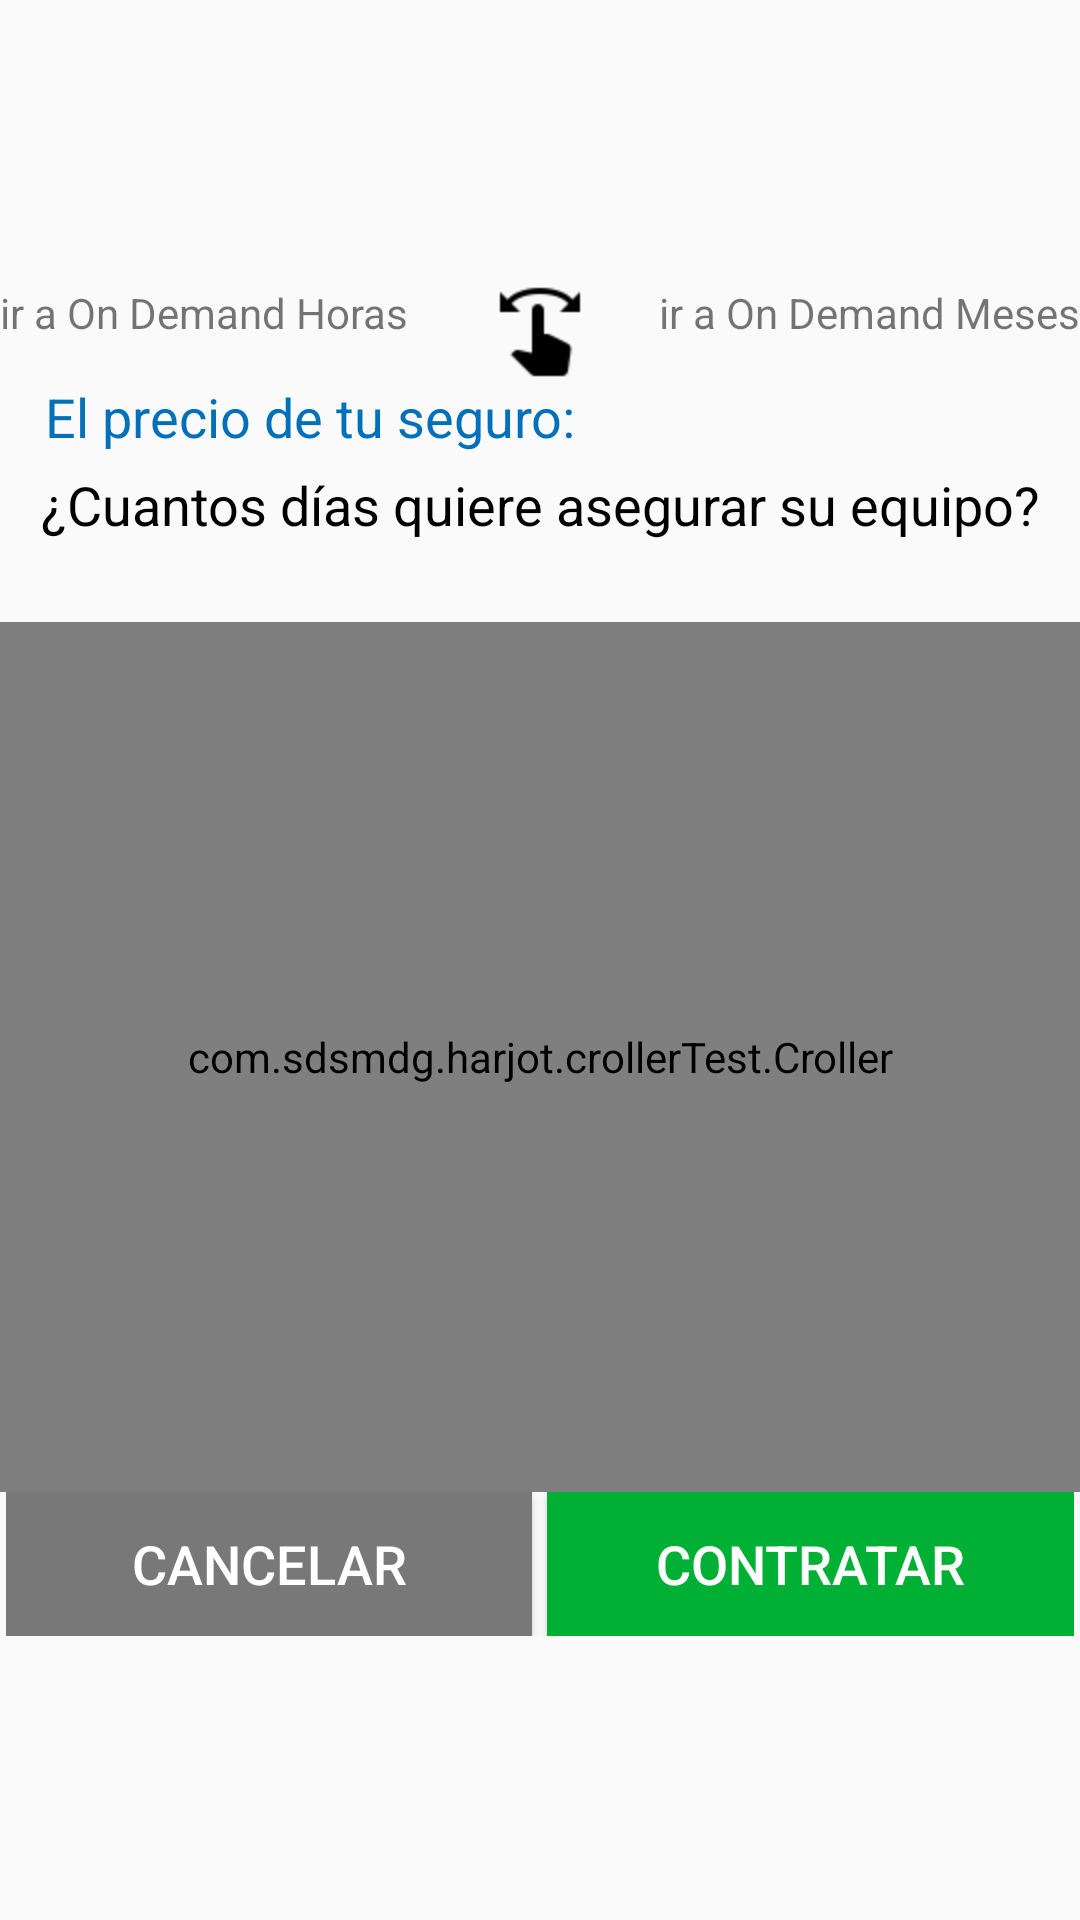

Screen size 1080px×1920px. Icon name, then its center in pixels as (x,y):
gesture swipe: (540,332)
